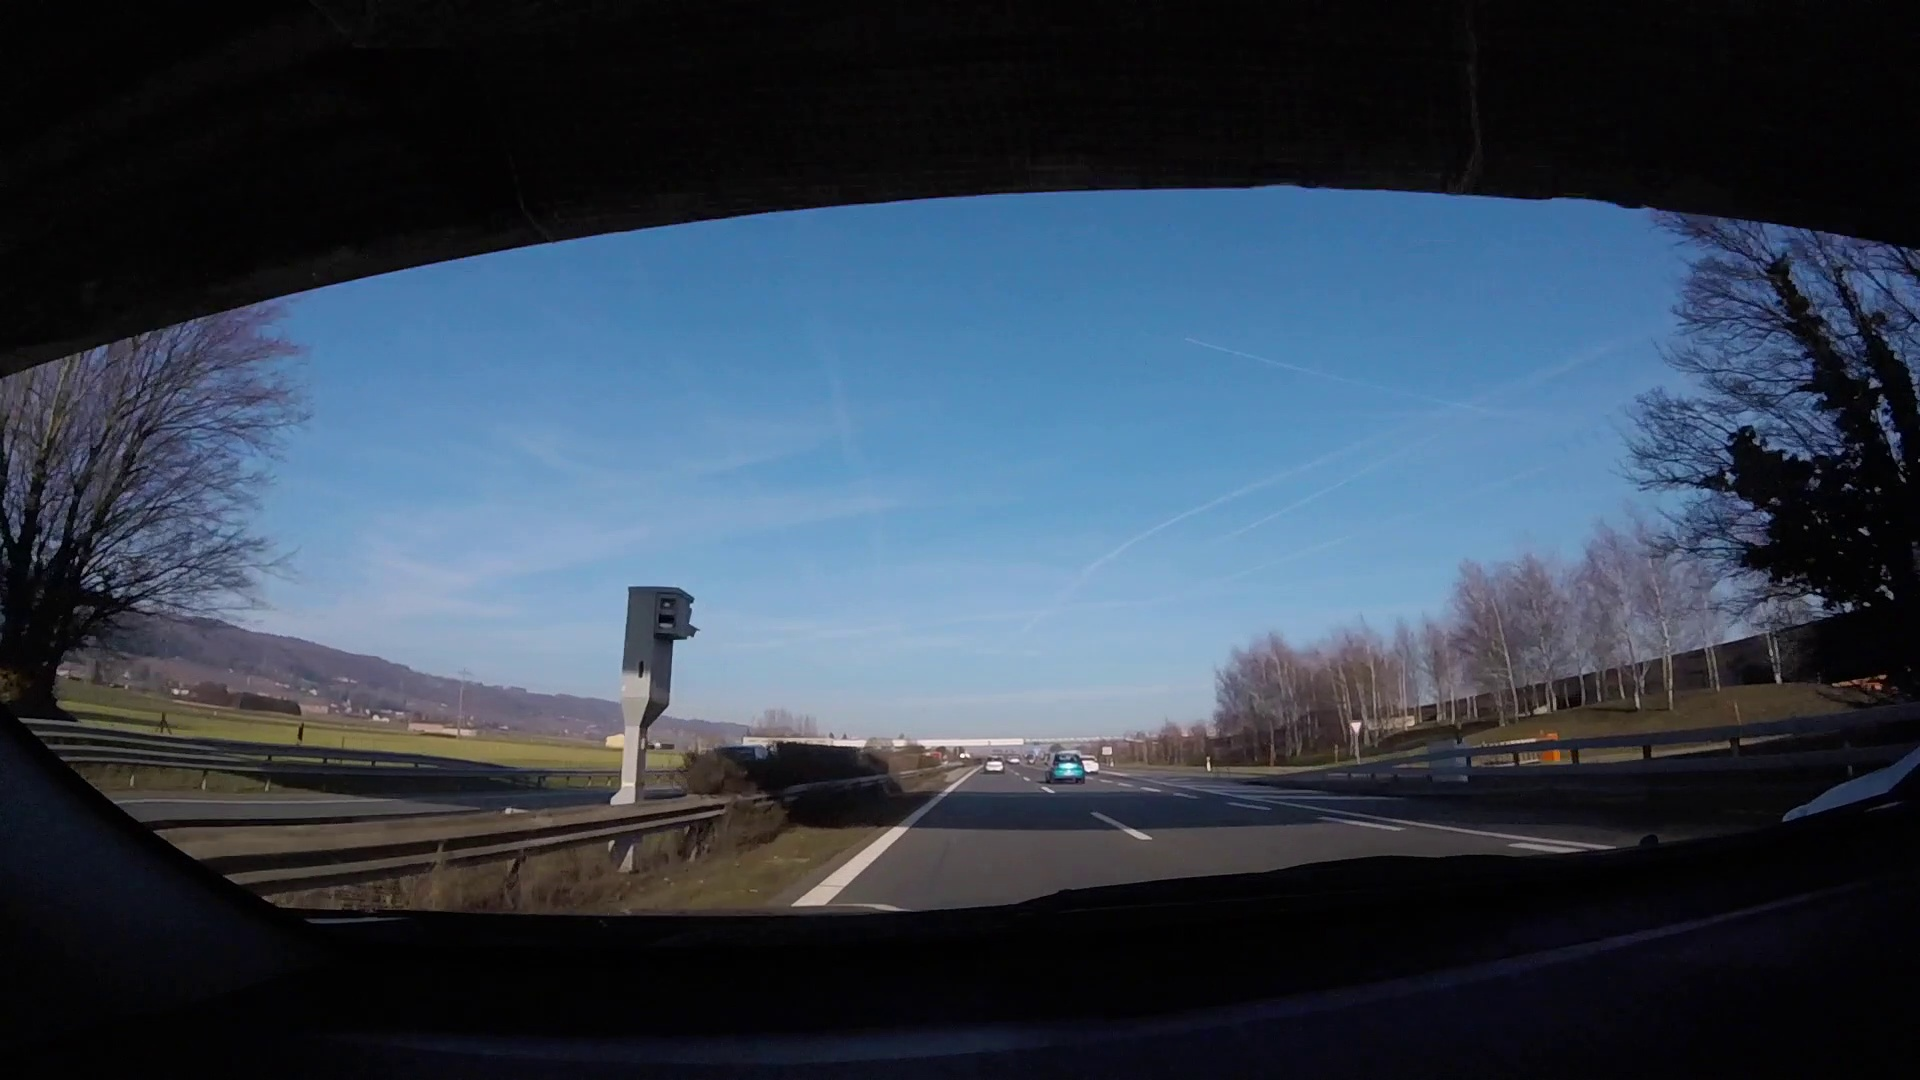radar: (620, 585, 702, 791)
